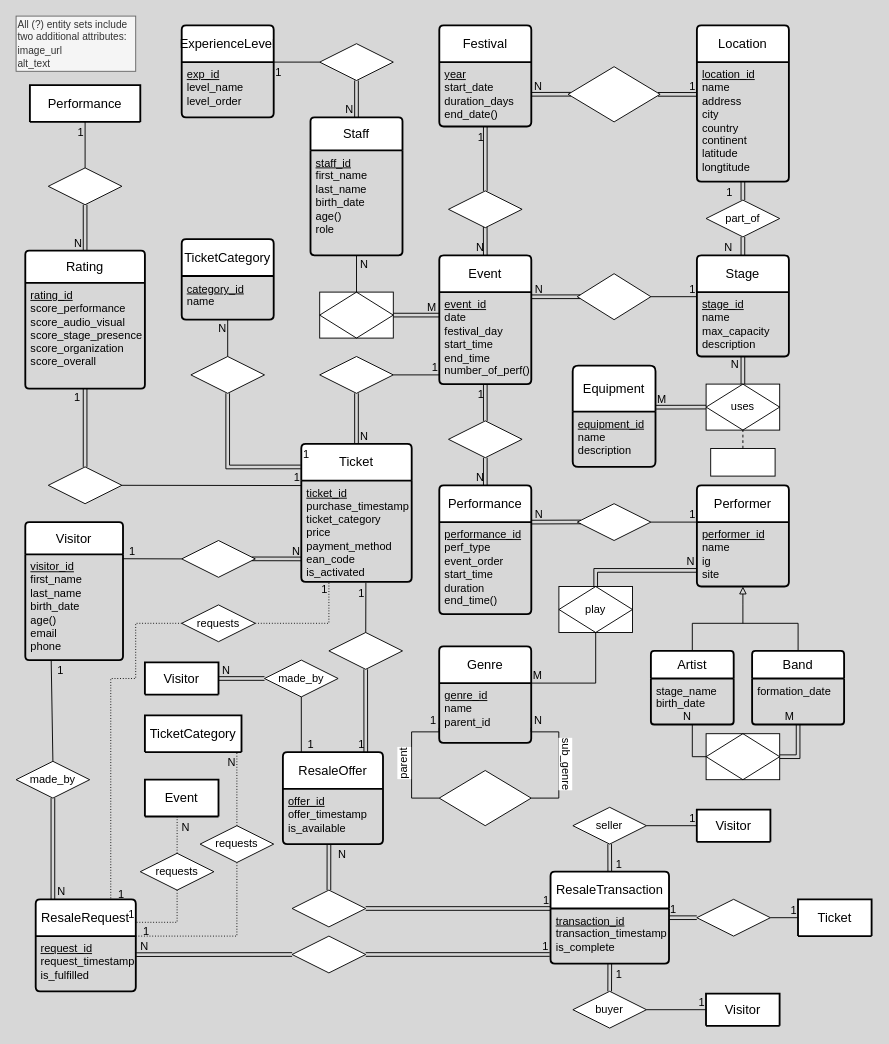
Some shapes in this 889 by 1044 pixel diagram are drawn without their labels. The shapes that lost their labels are listed below. From the top down, each one's centre as x and y in pixels, then its label:
At pixel 356 61: "has_exp".
At pixel 613 94: "fest_loc".
At pixel 84 186: "rates".
At pixel 485 209: "consists_of".
At pixel 356 314: "works_on".
At pixel 613 296: "hosted_on".
At pixel 227 374: "has".
At pixel 356 374: "access".
At pixel 485 439: "includes".
At pixel 742 462: "quantity".
At pixel 84 485: "by".
At pixel 613 521: "performs".
At pixel 218 558: "buys".
At pixel 365 650: "offers".
At pixel 742 756: "member_of".
At pixel 484 798: "subgenre_of".
At pixel 328 908: "matched".
At pixel 733 917: "about".
At pixel 328 954: "fulfilled".
